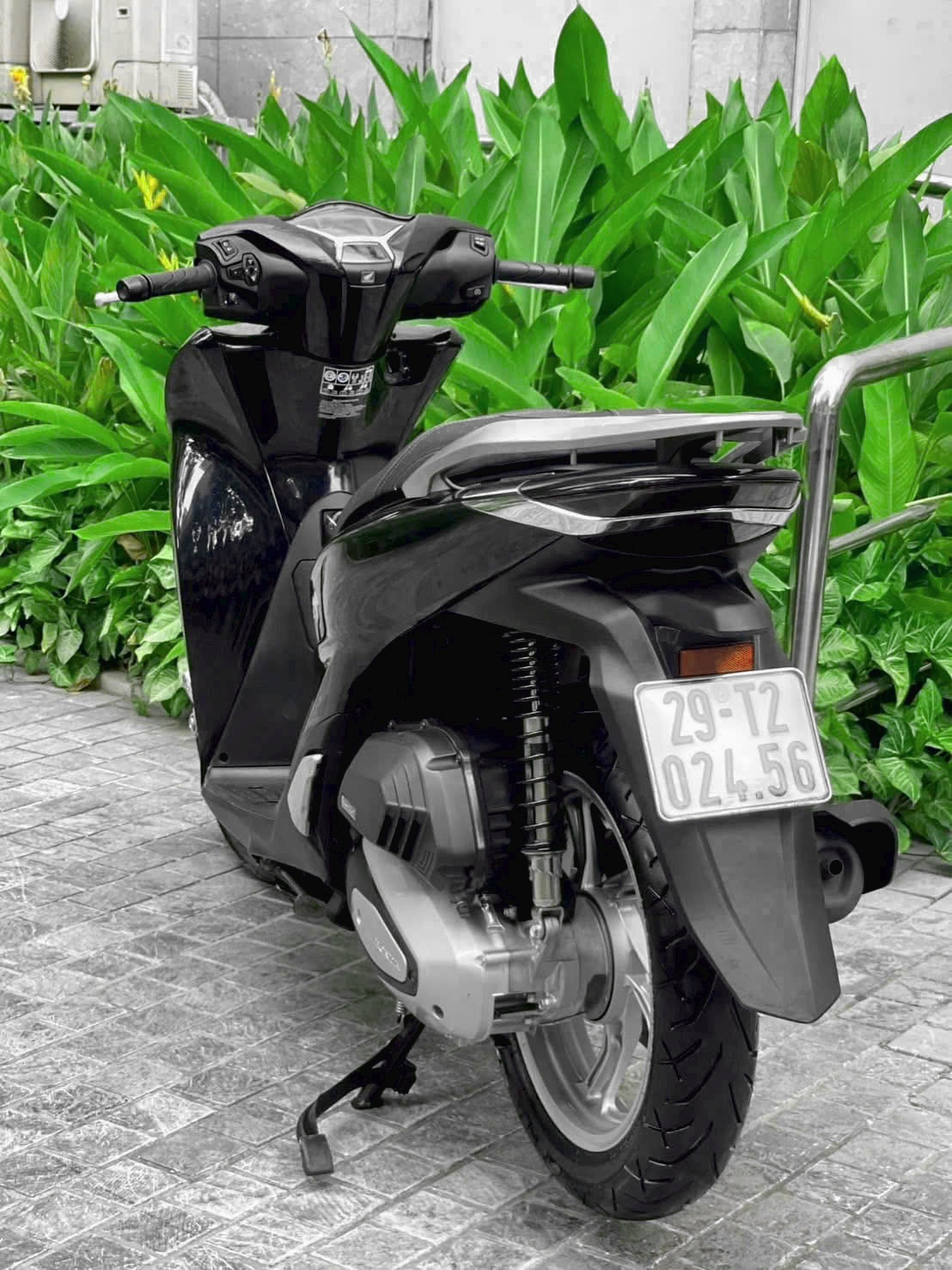Bien-so: (662, 615, 871, 783)
